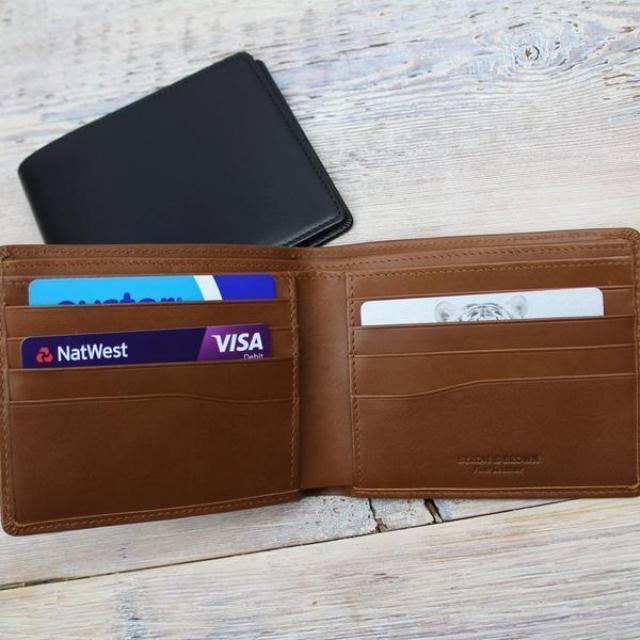wallet: (2, 224, 640, 538)
